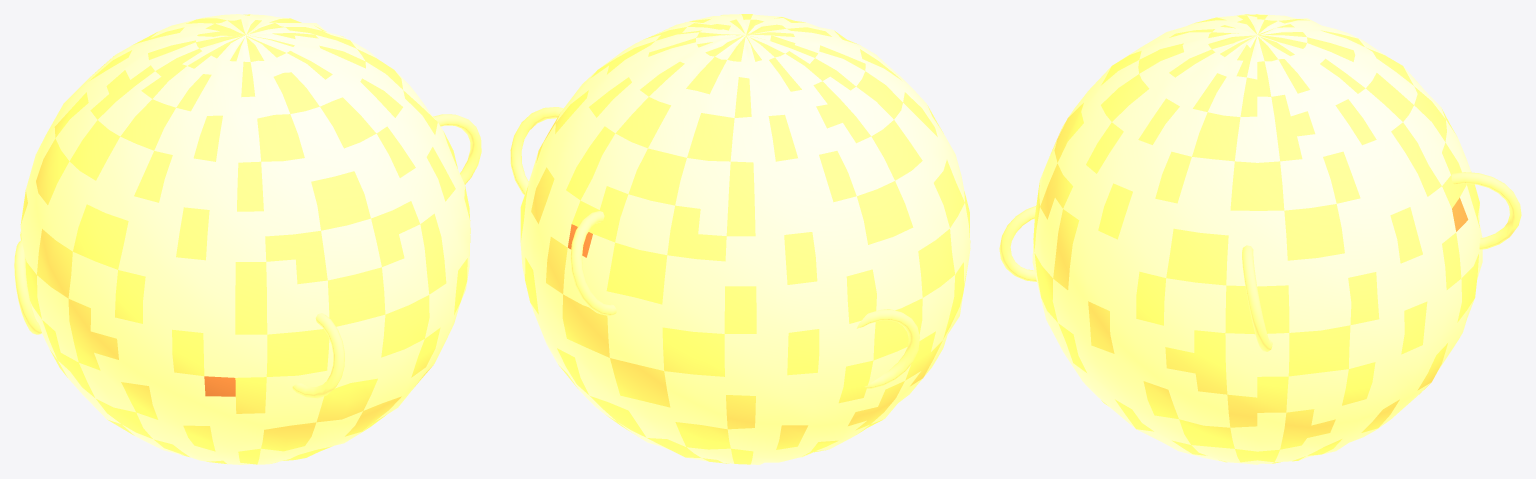
File: sun-star.glb
3 renders of one model, left to right at view 1: azimuth 30°, elevation 25°; view 2: azimuth 150°, elevation 25°; view 3: azimuth 270°, elevation 25°, orthographic.
Parts seen in each view (by area): view 1: Photosphere_Core, Flare_Arch_3, Flare_Arch_0, Flare_Arch_1; view 2: Photosphere_Core, Flare_Arch_1, Flare_Arch_2, Flare_Arch_0; view 3: Photosphere_Core, Flare_Arch_2, Flare_Arch_0, Flare_Arch_3.
Part boxes in pixels (x1,y1,x2,y2): Photosphere_Core: (20, 14, 470, 464); Flare_Arch_3: (292, 313, 344, 398); Flare_Arch_0: (433, 114, 481, 184); Flare_Arch_1: (14, 240, 41, 334); Photosphere_Core: (520, 14, 970, 464); Flare_Arch_1: (856, 309, 919, 388); Flare_Arch_2: (570, 211, 616, 315); Flare_Arch_0: (510, 107, 563, 194); Photosphere_Core: (1032, 14, 1482, 464); Flare_Arch_2: (1451, 172, 1521, 249); Flare_Arch_0: (1242, 245, 1272, 351); Flare_Arch_3: (999, 206, 1036, 281).
Bounding box in the file's own units: 2.23 × 2.01 × 2.32.
